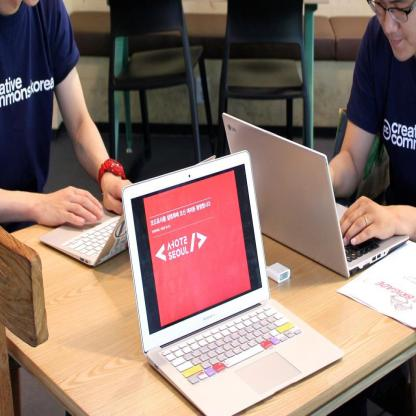board: (120, 145, 341, 414), (221, 111, 410, 281), (39, 153, 216, 270)
